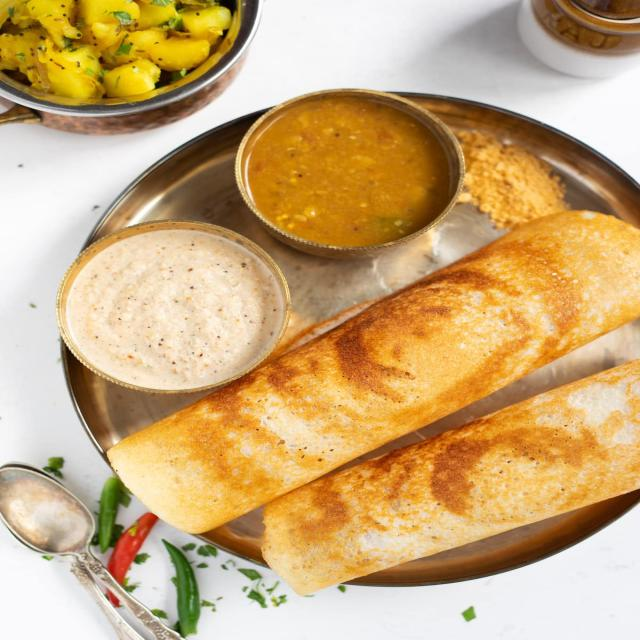DOSA: (104, 207, 639, 542), (258, 356, 639, 597)
